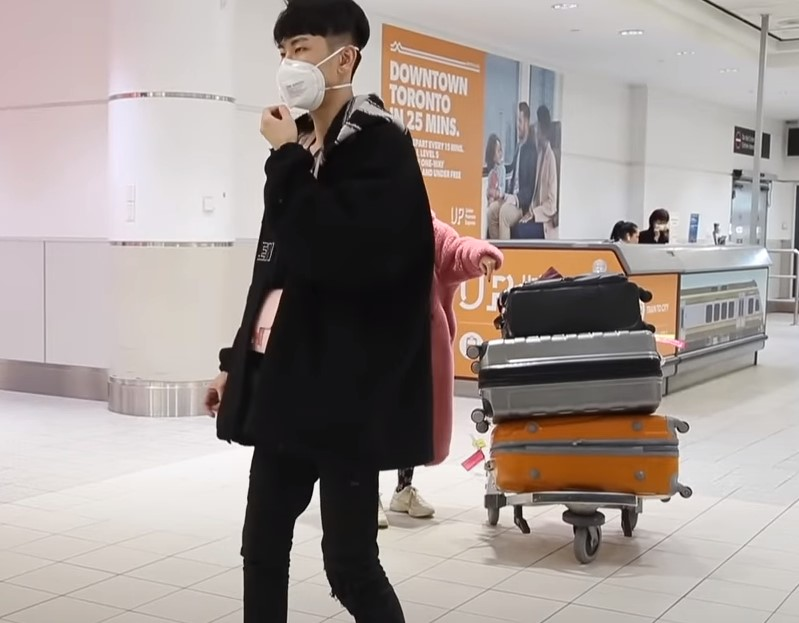face_with_mask: (276, 6, 363, 111)
